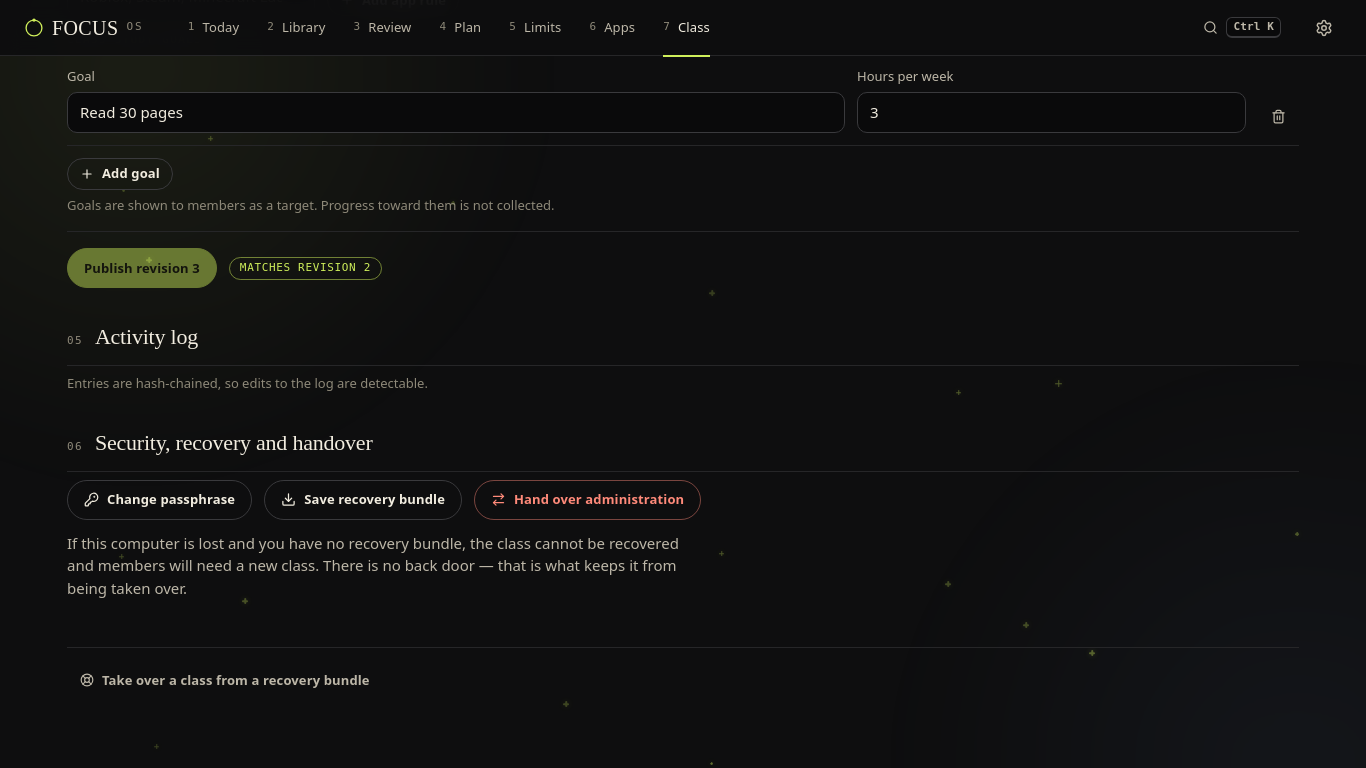
it: Class page: administrator › admin handover warns that it cannot be undone
(page scrolled)
Click the button "Hand over administration": (588, 500) [474, 480, 701, 520]
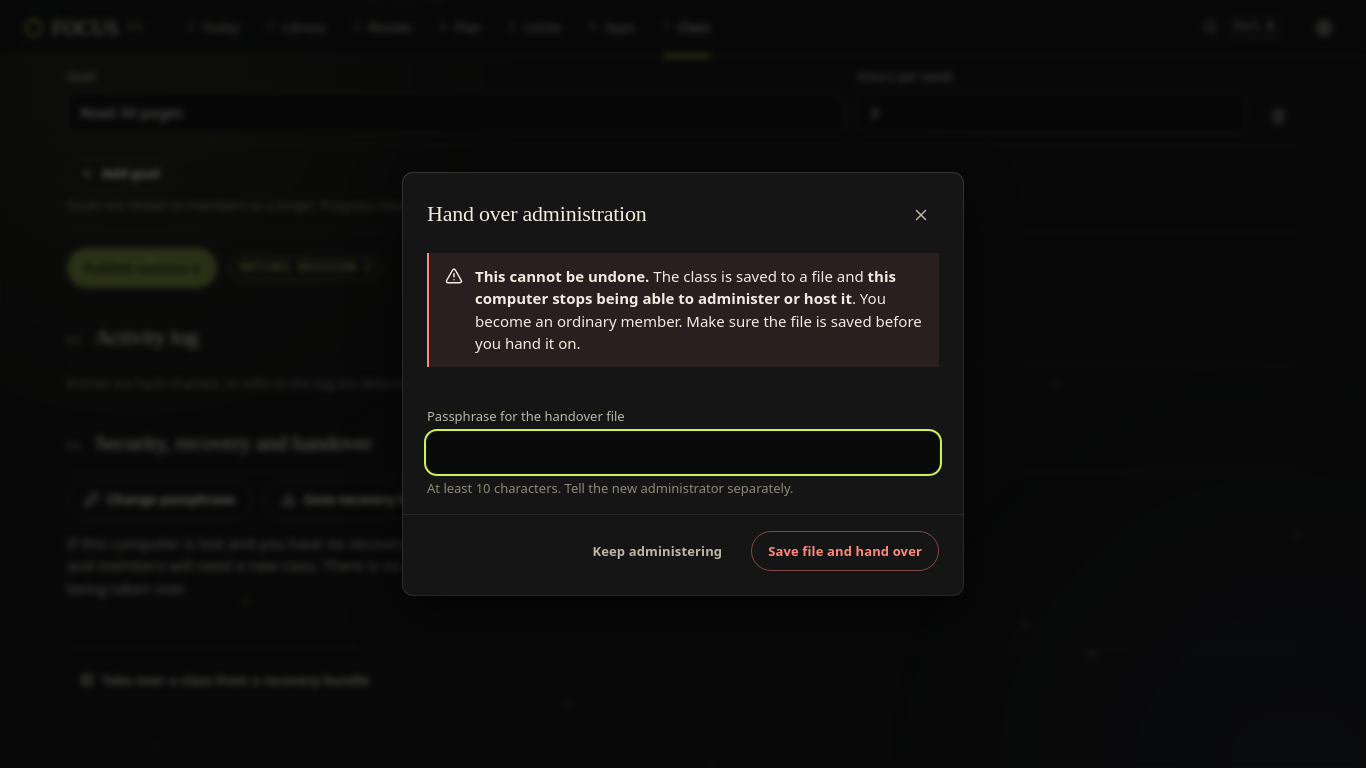
Check: the text "This cannot be undone." is shown, box [475, 266, 649, 286]
Check: the text "this computer stops being able to administer or host it" is shown, box [475, 266, 896, 308]
